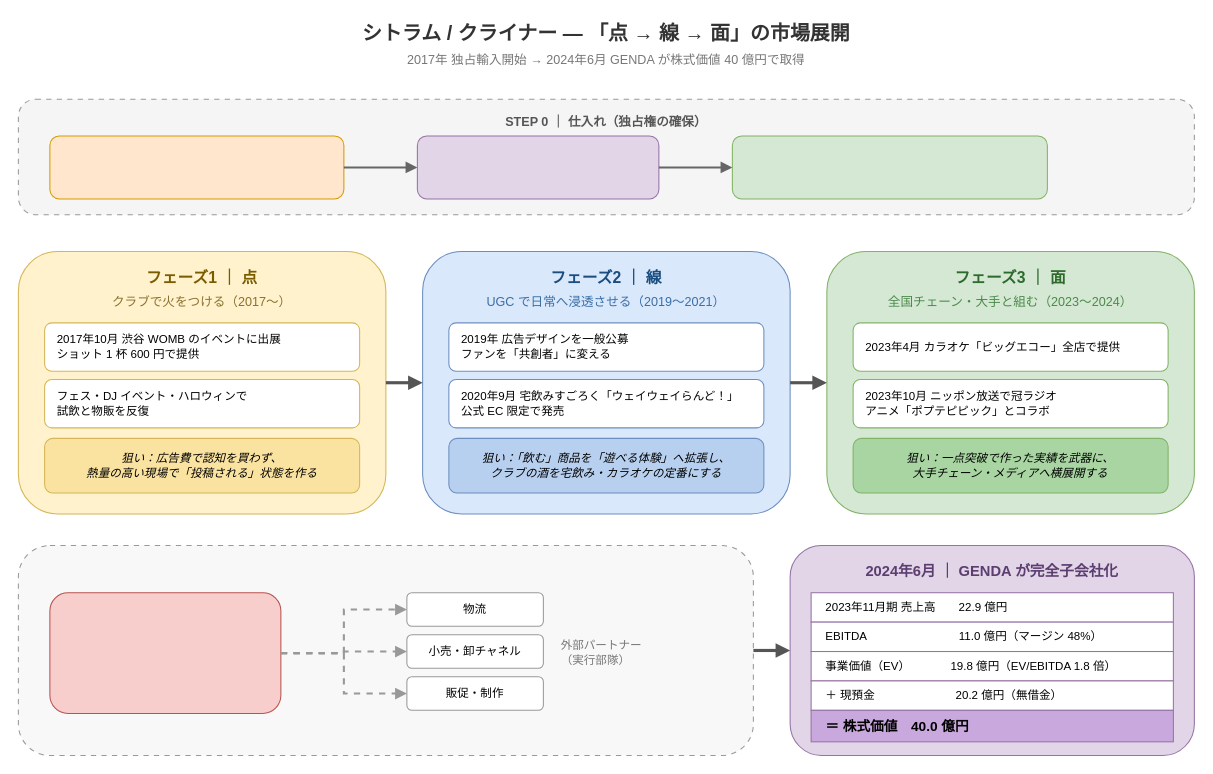
Some shapes in this 1213 by 774 pixel diagram are drawn without their labels. The shapes that lost their labels are listed below. From the top down, each one's box as (x1, y1, x2, y2) in pixels, then its label:
(49, 135, 344, 199): ドイツ Waldemar Behn 社 「クライナーファイグリング」 欧米で年間 6 億本を出荷（自社発表）
(416, 135, 659, 199): 日本市場は「空白」 誰も持ち込んでいない
(731, 135, 1047, 199): 2017年3月 独占輸入販売を契約 同月15日 公式サイト・SNS を同時開設
(49, 592, 281, 713): シトラム本体 ・独占販売権 ・マーケティングの意思決定
(17, 544, 753, 755): 固定費を持たない構造（自社は「権利」と「判断」だけを握る）
